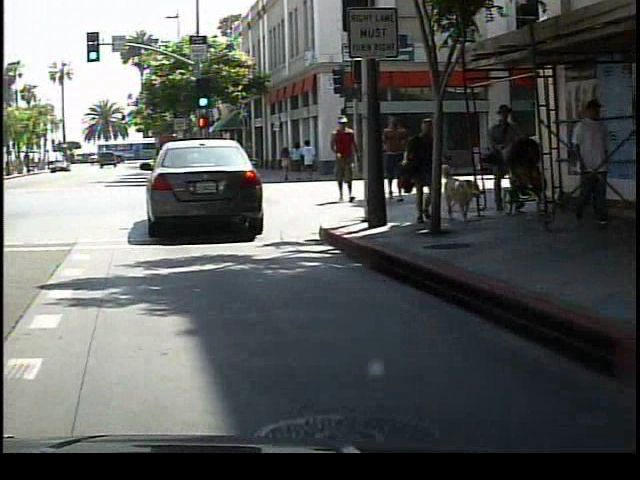person: (330, 113, 369, 207), (382, 109, 406, 205)
